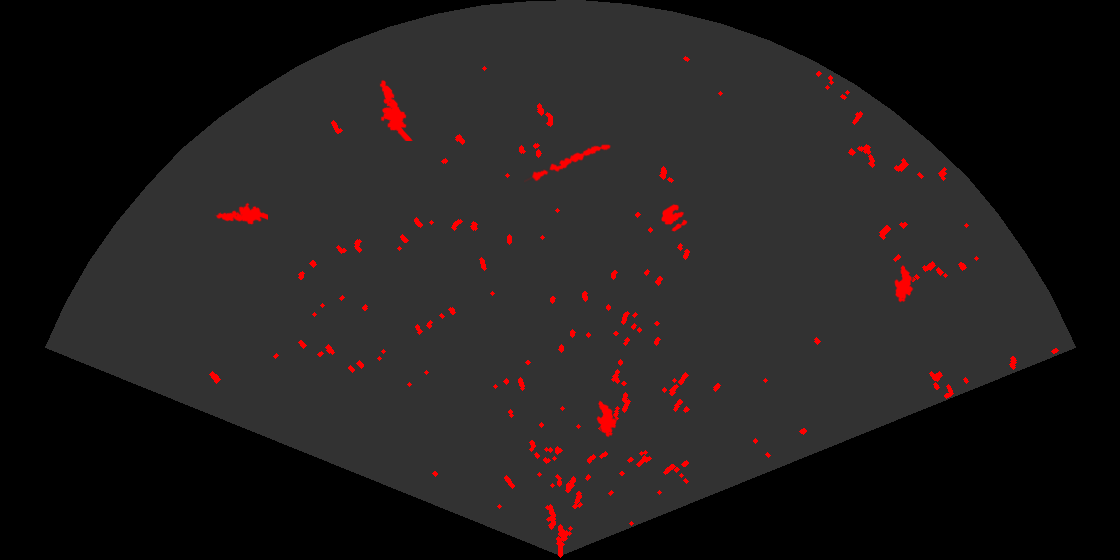AUV: (595, 399, 618, 439), (893, 263, 915, 304)
ball: (660, 203, 689, 233)
chain: (524, 143, 612, 184)
frogman: (378, 78, 414, 141), (214, 201, 268, 226)
